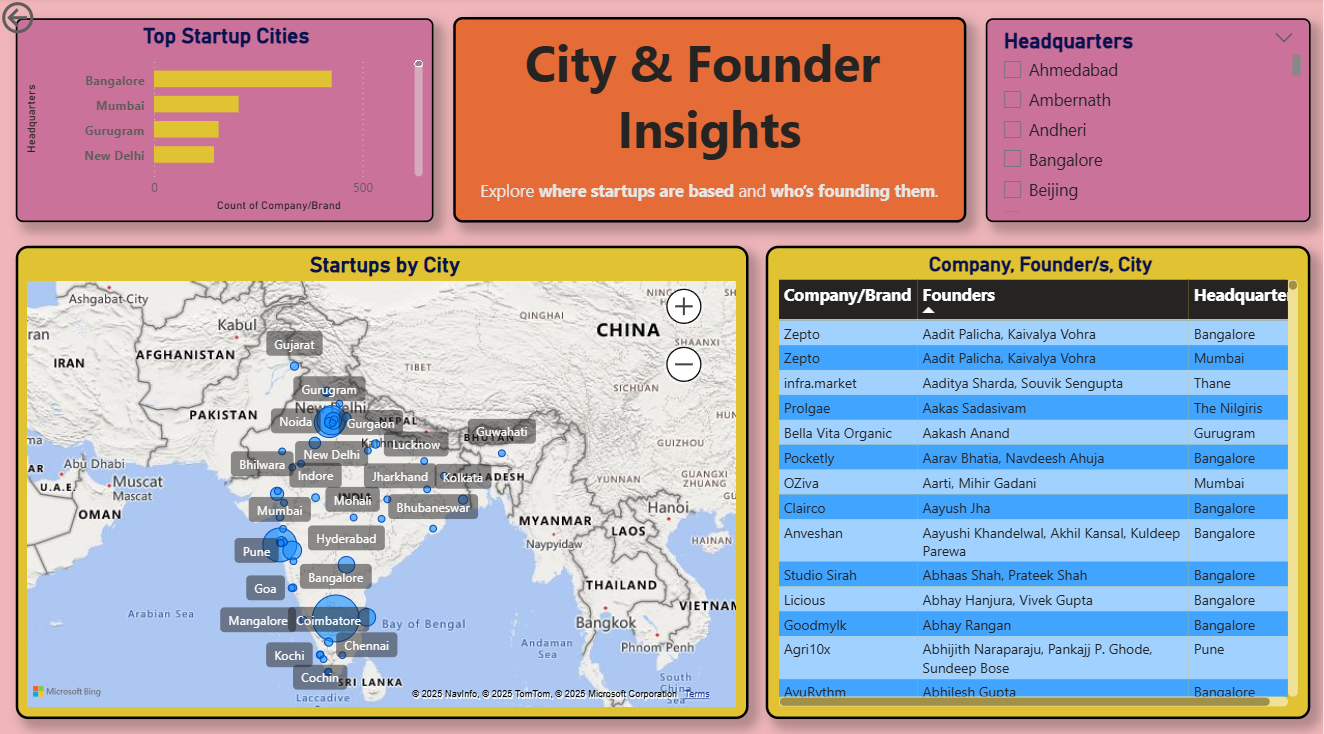

The page's visual inventory and layout, read from the dashboard file:
{"tool":"powerbi","page":{"name":"City & Founder","canvas":[1280,720],"ordinal":2},"visuals":[{"type":"map","title":"Startups by City","fields":{"Size":["CountNonNull(Indian Startup.Company/Brand)"],"Category":["Indian Startup.Headquarters"]},"box":[17.9,239.5,707.6,457],"z":0},{"type":"barChart","title":"Top Startup Cities","fields":{"Category":["Indian Startup.Headquarters"],"Y":["CountNonNull(Indian Startup.Company/Brand)"]},"box":[17.9,20.6,403.4,196.9],"z":1000},{"type":"tableEx","title":"Company, Founder/s, City","fields":{"Values":["Indian Startup.Company/Brand","Indian Startup.Founders","Indian Startup.Headquarters"]},"box":[742,239.5,525.9,457],"z":2000},{"type":"actionButton","box":[0,0,100,40],"z":3000},{"type":"slicer","fields":{"Values":["Indian Startup.Headquarters"]},"box":[954,20.6,313.9,196.9],"z":4000},{"type":"textbox","box":[440.5,19.3,495.6,198.2],"z":5000}]}

Visuals, with their boxes in screenshot pixels (x1, y1, x2, y2), scaled from the page's 1280x720 canvas onto the 1324x734 screenshot:
"Startups by City" map: Rect(19, 244, 750, 710)
"Top Startup Cities" barChart: Rect(19, 21, 436, 222)
"Company, Founder/s, City" tableEx: Rect(768, 244, 1311, 710)
actionButton: Rect(0, 0, 103, 41)
slicer - Indian Startup.Headquarters: Rect(987, 21, 1311, 222)
textbox: Rect(456, 20, 968, 222)
